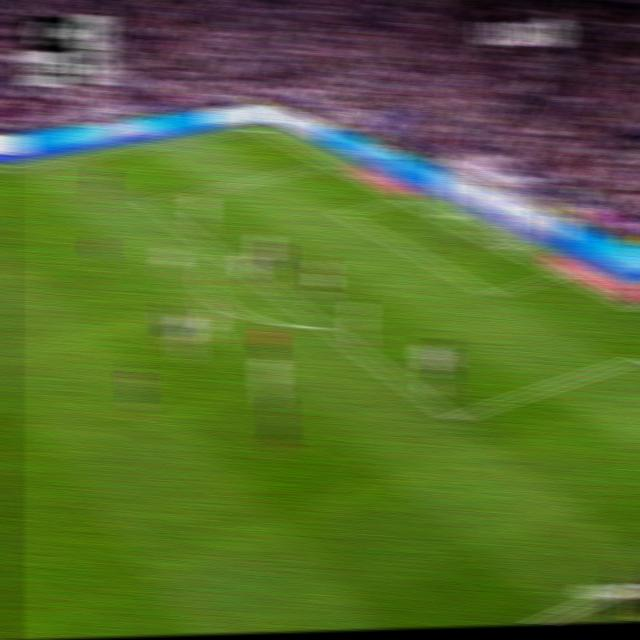bigarea_bottom_inner: (443, 407, 465, 429)
bigarea_top_inner: (139, 196, 158, 210)
bigarea_top_outter: (317, 157, 336, 169)
bottom_arc_area_intersection: (313, 317, 336, 334)
smallarea_top_inner: (335, 208, 352, 220)
top_arc_area_intersection: (209, 243, 229, 260)
